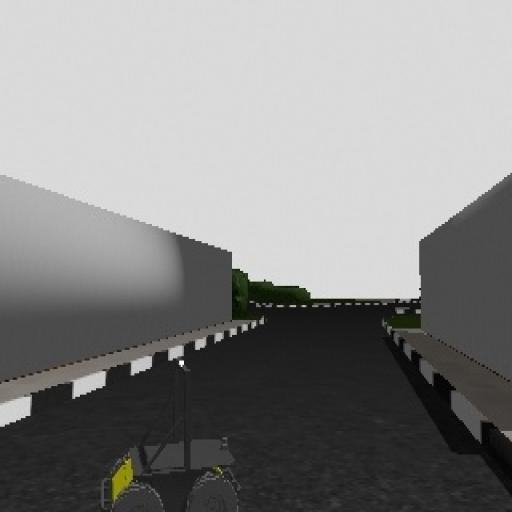huskya200: (103, 345, 247, 512)
